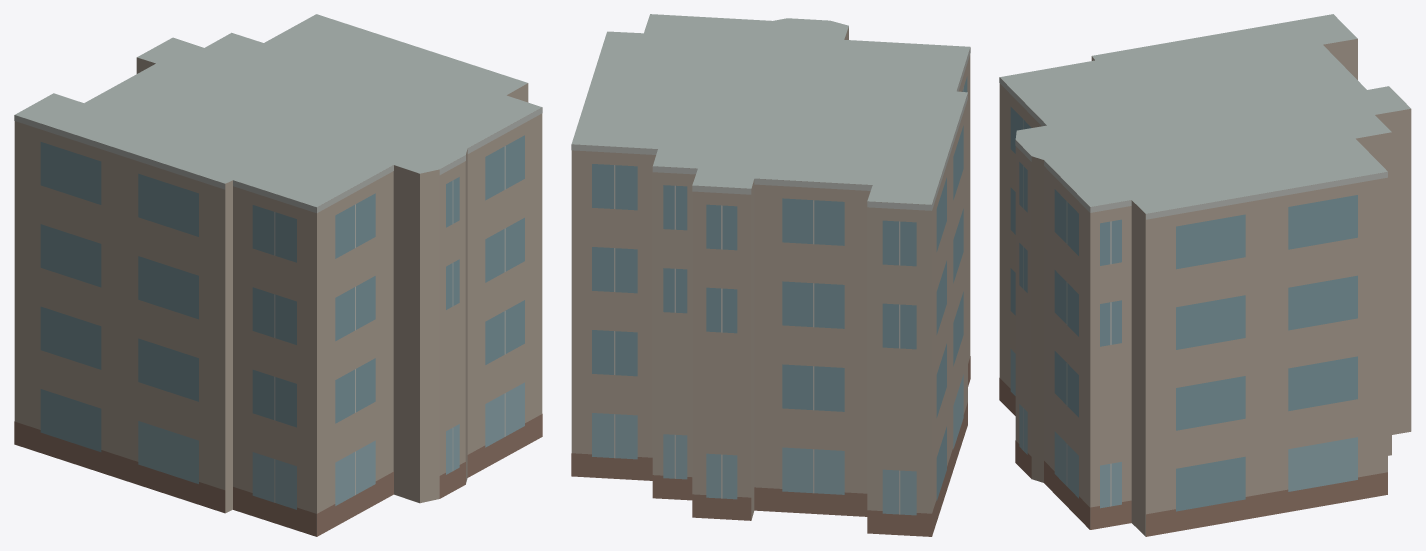
File: survey-upis-32585039.glb
The picture shows the model from 3 angles, left to right: view 1: azimuth 30°, elevation 25°; view 2: azimuth 150°, elevation 25°; view 3: azimuth 270°, elevation 25°; orthographic projection. The views are drawn at different scales.
Parts seen in each view (by area): view 1: survey-upis-32585039.tmp; view 2: survey-upis-32585039.tmp; view 3: survey-upis-32585039.tmp.
Part boxes in pixels (x1,y1,x2,y2): survey-upis-32585039.tmp: (14, 14, 542, 536); survey-upis-32585039.tmp: (571, 14, 970, 536); survey-upis-32585039.tmp: (999, 14, 1411, 536).
Bounding box in the file's own units: 17.8 × 13.4 × 15.49.
